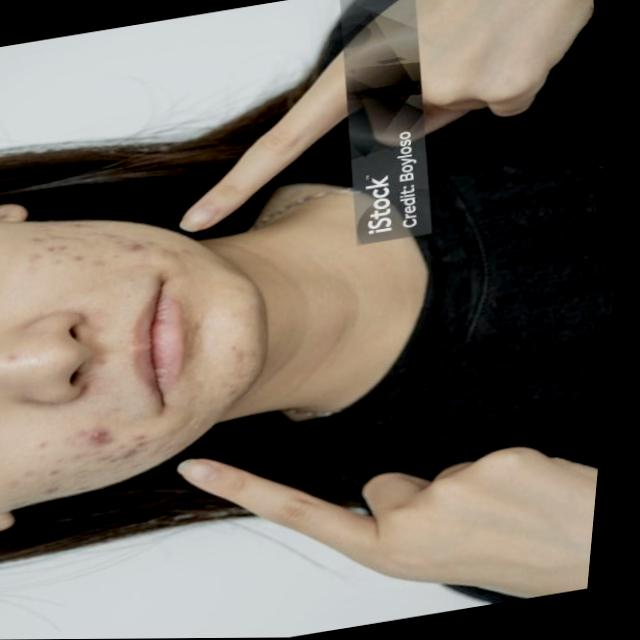nodule: (94, 423, 126, 452), (129, 234, 158, 258)
